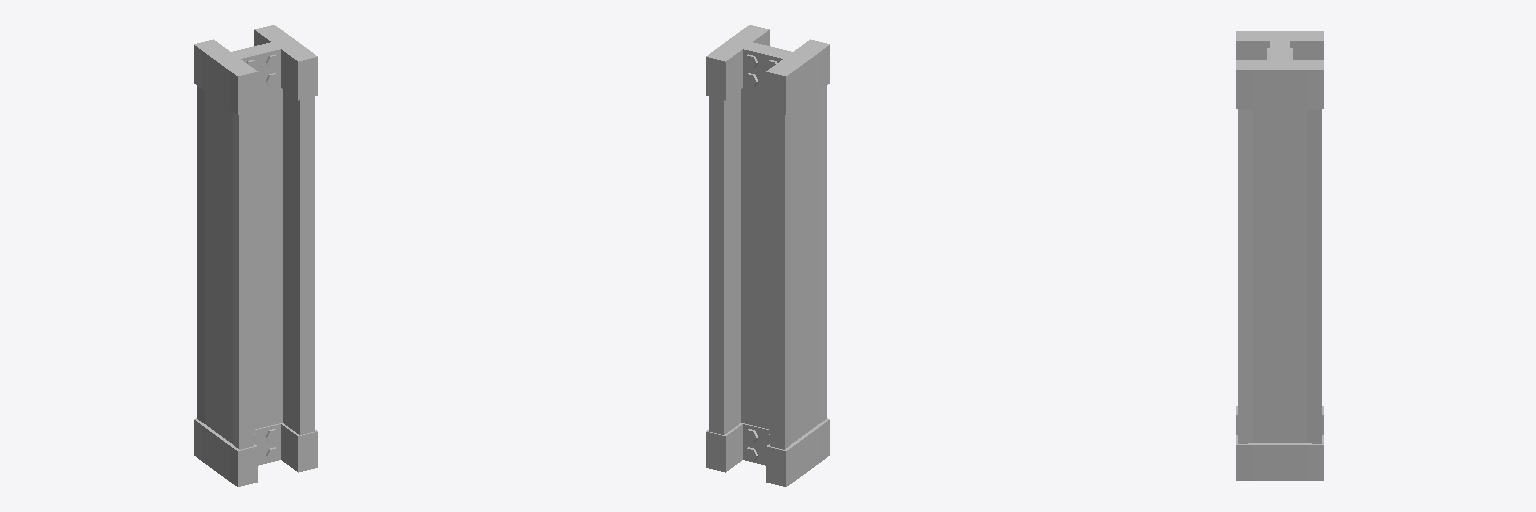
The model's file is steal beam.obj.
3 renders of one model, left to right at view 1: azimuth 30°, elevation 25°; view 2: azimuth 150°, elevation 25°; view 3: azimuth 270°, elevation 25°, orthographic.
Parts seen in each view (by area): view 1: Steal_beam1; view 2: Steal_beam1; view 3: Steal_beam1.
Part boxes in pixels (x1,y1,x2,y2): Steal_beam1: (194, 25, 317, 486); Steal_beam1: (706, 25, 829, 486); Steal_beam1: (1236, 31, 1323, 480).
Bounding box in the file's own units: 82.56 × 400 × 77.5.